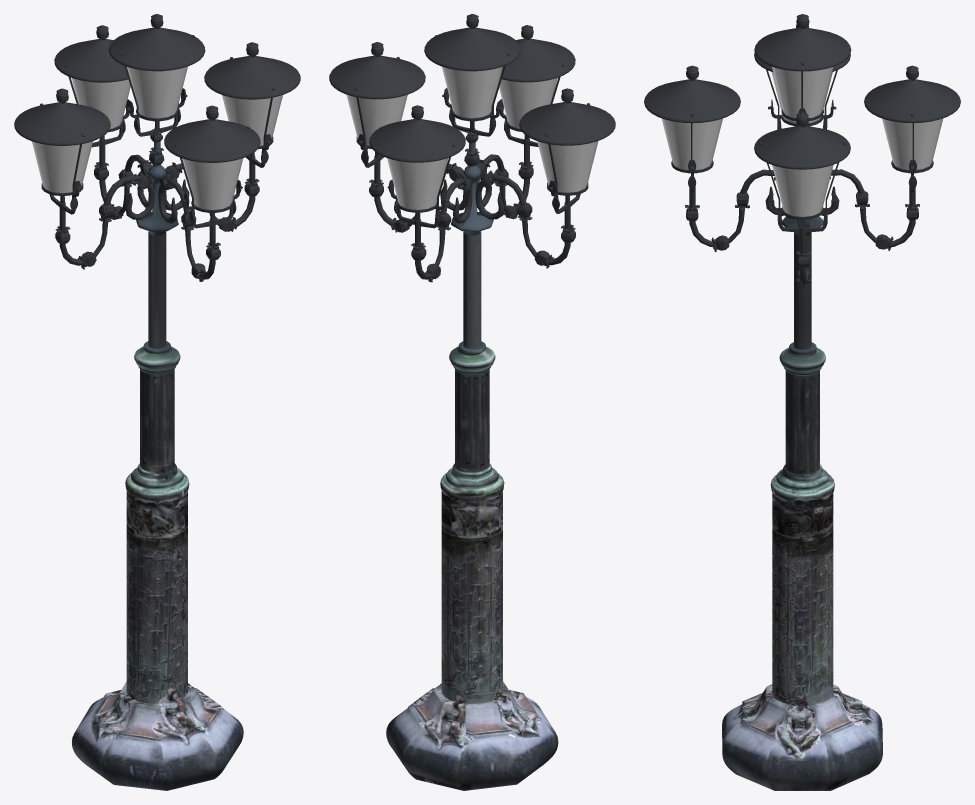
Rendered from laterne_A.FBX.
The picture shows the model from 3 angles, left to right: view 1: azimuth 30°, elevation 25°; view 2: azimuth 150°, elevation 25°; view 3: azimuth 270°, elevation 25°; orthographic projection.
Parts seen in each view (by area): view 1: aaa, Line012, glass; view 2: aaa, Line012, glass; view 3: aaa, Line012, glass.
Part boxes in pixels (bbox=[...]): aaa: bbox=[72, 132, 243, 790]; Line012: bbox=[14, 14, 300, 281]; glass: bbox=[32, 66, 282, 209]; aaa: bbox=[386, 132, 558, 790]; Line012: bbox=[329, 14, 615, 282]; glass: bbox=[346, 66, 598, 209]; aaa: bbox=[722, 216, 882, 790]; Line012: bbox=[644, 14, 960, 287]; glass: bbox=[661, 66, 943, 216].
Size of the model in its own units: 210 by 547 by 210.
2 materials, 2 textured.
